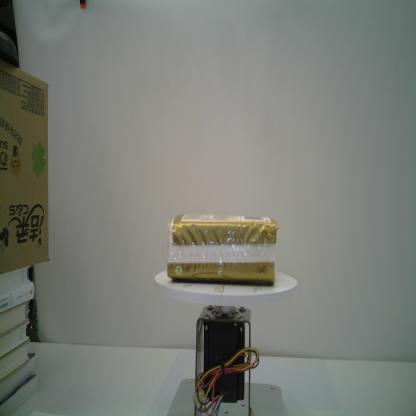Tissue: (165, 210, 279, 287)
